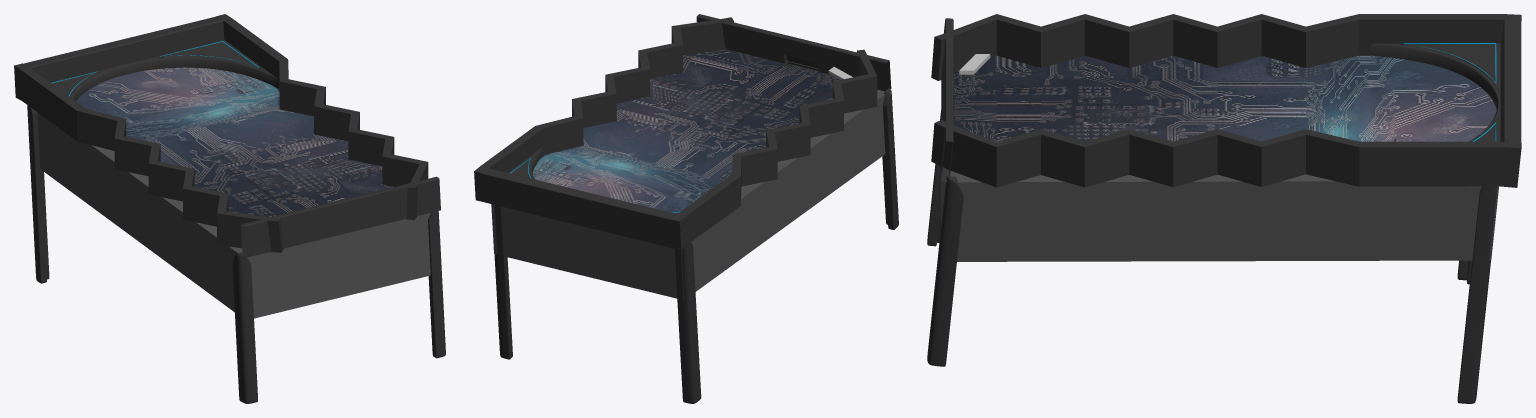
Rendered from Pinball_Mat_zigzag.fbx_Collection.fbx.
3 renders of one model, left to right at view 1: azimuth 30°, elevation 25°; view 2: azimuth 150°, elevation 25°; view 3: azimuth 270°, elevation 25°, orthographic. The views are drawn at different scales.
Parts seen in each view (by area): view 1: Pinball_Board.002, Pinball_Body.002, Pinball_Side_L.002, Pinball_Side_R.004, Legs.002, Pinball_Side_B.002, Pinball_T_Side.002, Pinball_Object_T.002; view 2: Pinball_Board.002, Pinball_Body.002, Pinball_Side_L.002, Pinball_Side_R.004, Pinball_T_Side.002, Legs.002, Pinball_Side_B.002, Pinball_Object_T.002; view 3: Pinball_Body.002, Pinball_Board.002, Pinball_Side_R.004, Pinball_Side_L.002, Legs.002, Pinball_Object_T.002, Pinball_T_Side.002, Pinball_Side_B.002.
Boxes of the visible parts, <box> form: Pinball_Board.002: <box>76,67,394,217</box>; Pinball_Body.002: <box>37,112,430,318</box>; Pinball_Side_L.002: <box>14,63,283,252</box>; Pinball_Side_R.004: <box>216,14,428,220</box>; Legs.002: <box>27,105,445,403</box>; Pinball_Side_B.002: <box>241,176,440,257</box>; Pinball_T_Side.002: <box>24,16,224,82</box>; Pinball_Object_T.002: <box>50,40,279,101</box>; Pinball_Board.002: <box>532,49,839,212</box>; Pinball_Body.002: <box>491,89,885,299</box>; Pinball_Side_L.002: <box>671,49,877,250</box>; Pinball_Side_R.004: <box>474,17,733,201</box>; Pinball_T_Side.002: <box>482,168,676,248</box>; Legs.002: <box>494,88,898,403</box>; Pinball_Side_B.002: <box>696,14,891,91</box>; Pinball_Object_T.002: <box>508,147,681,213</box>; Pinball_Body.002: <box>941,167,1498,261</box>; Pinball_Board.002: <box>953,55,1496,141</box>; Pinball_Side_R.004: <box>931,120,1521,187</box>; Pinball_Side_L.002: <box>931,14,1521,80</box>; Legs.002: <box>927,110,1497,403</box>; Pinball_Object_T.002: <box>1370,43,1500,141</box>; Pinball_T_Side.002: <box>1500,19,1521,142</box>; Pinball_Side_B.002: <box>941,18,953,182</box>.
Bounding box in the file's own units: 714 × 657 × 1346.
